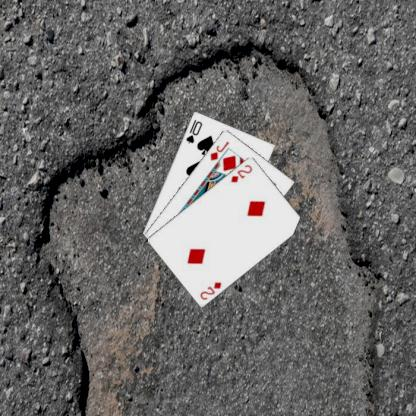10S: (183, 116, 203, 144)
2D: (228, 162, 254, 184), (197, 278, 223, 300)
JD: (208, 138, 230, 162)
